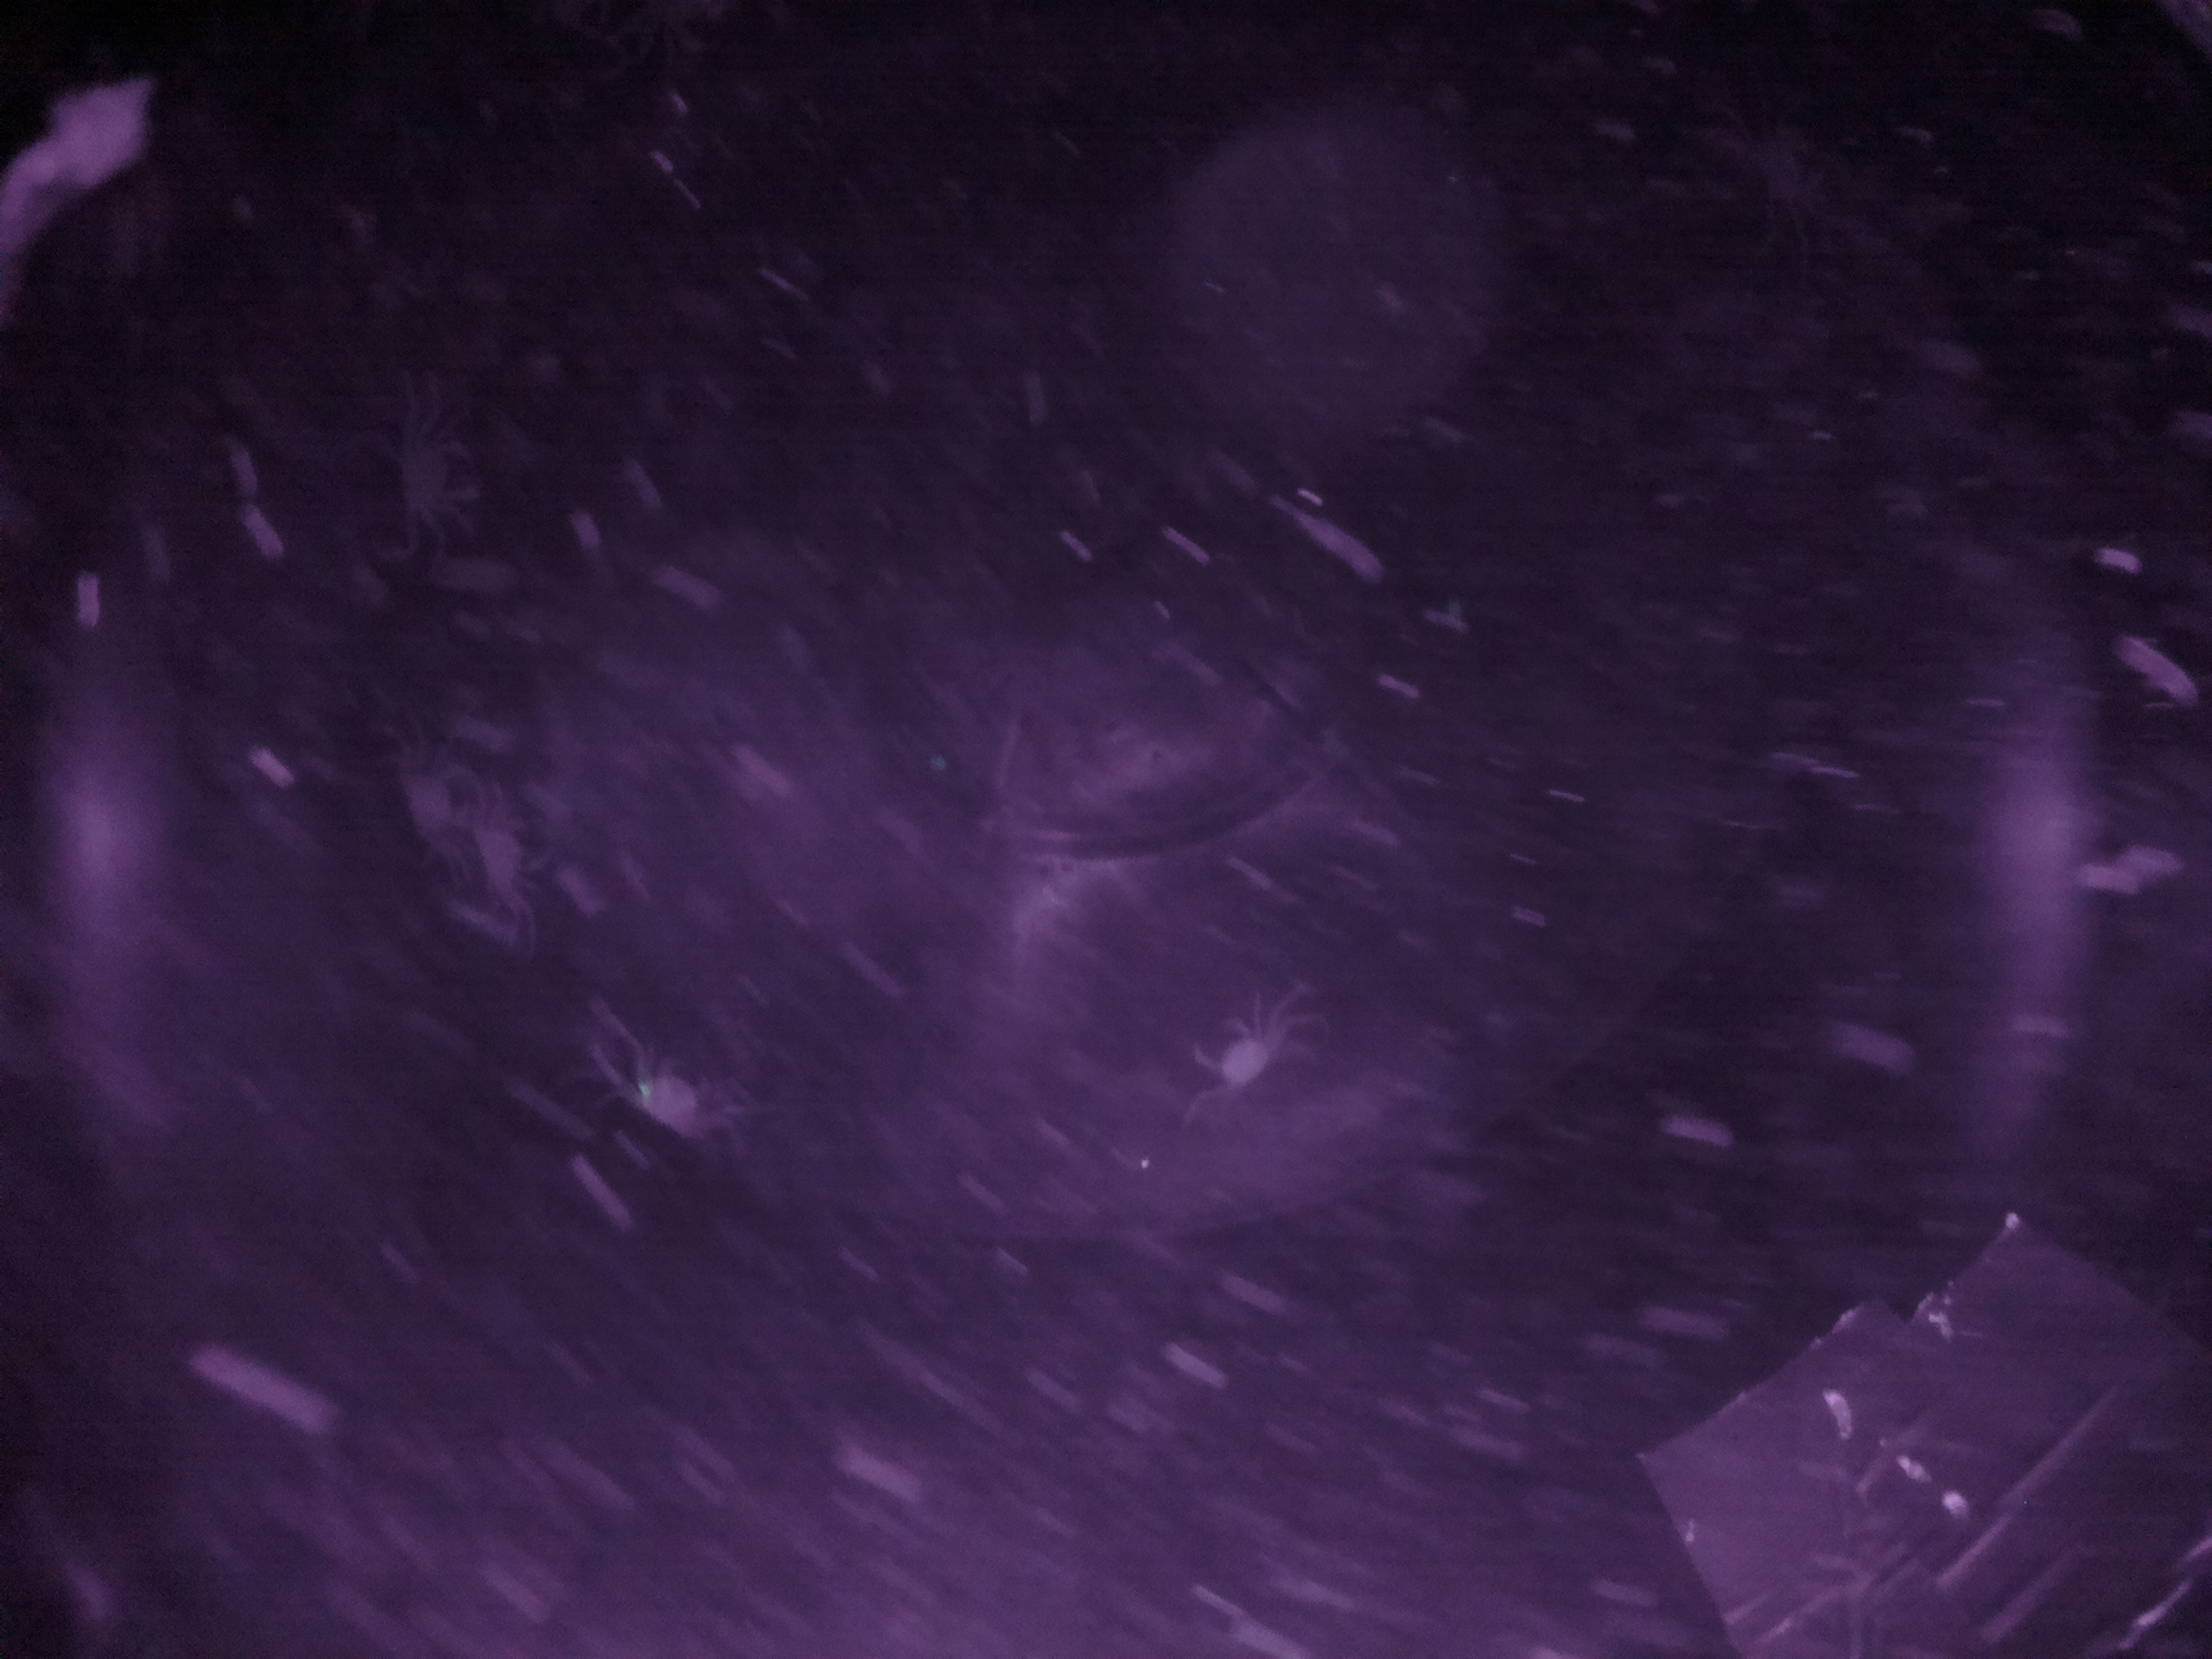Crab: (1170, 990, 1305, 1121)
